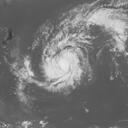cyclone: (36, 38, 91, 96)
